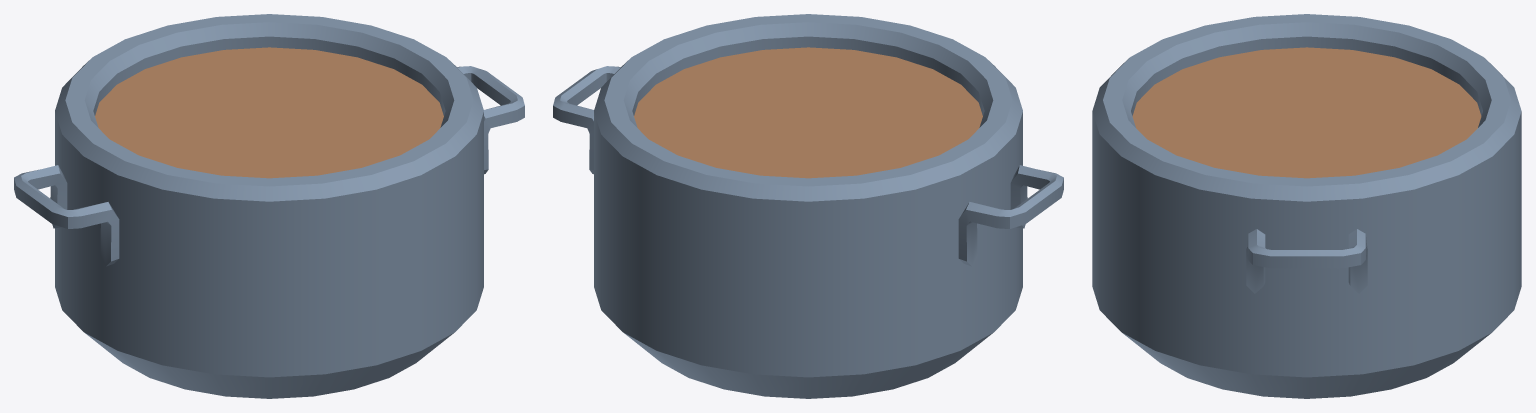
File: Environment_Pot_1_Filled.fbx
The picture shows the model from 3 angles, left to right: view 1: azimuth 30°, elevation 25°; view 2: azimuth 150°, elevation 25°; view 3: azimuth 270°, elevation 25°; orthographic projection.
Visible parts, largest first — view 1: Environment_Pot_1_Filled; view 2: Environment_Pot_1_Filled; view 3: Environment_Pot_1_Filled.
Part boxes in pixels (x1,y1,x2,y2): Environment_Pot_1_Filled: (14,14,524,398); Environment_Pot_1_Filled: (553,14,1063,398); Environment_Pot_1_Filled: (1092,14,1521,398).
Bounding box in the file's own units: 158 × 73.1 × 125.
